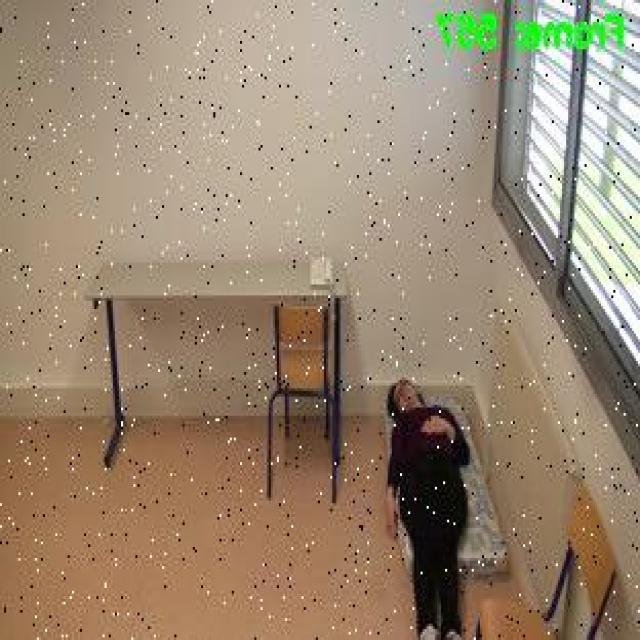fall: (379, 374, 474, 638)
